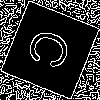C: (25, 25, 81, 76)
